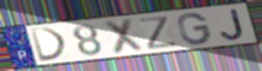8: (71, 22, 104, 58)
D: (28, 26, 70, 63)
G: (176, 12, 213, 47)
J: (219, 8, 246, 41)
X: (101, 17, 145, 56)
Z: (137, 15, 181, 51)
